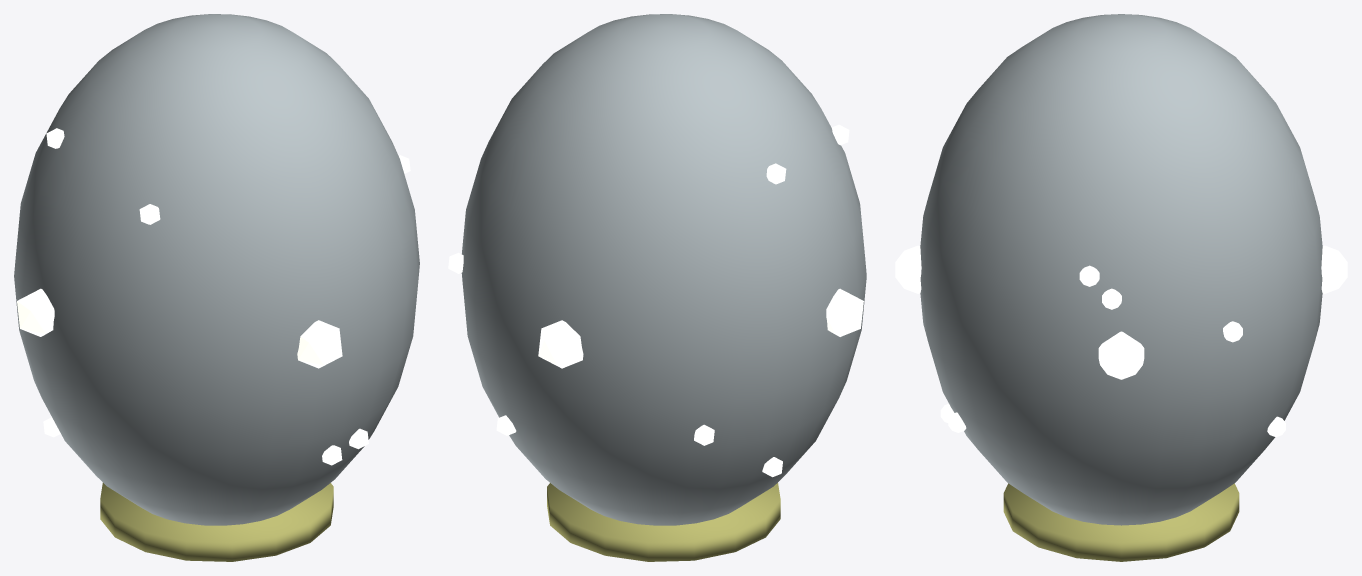
Rendered from egg_storm_04.glb.
3 views of the same model, side by side, from view 1: azimuth 30°, elevation 25°; view 2: azimuth 150°, elevation 25°; view 3: azimuth 270°, elevation 25° (orthographic).
Visible parts, largest first — view 1: ball; view 2: ball; view 3: ball.
Boxes of the visible parts, <box> form: ball: <box>14,14,419,561</box>; ball: <box>448,14,866,561</box>; ball: <box>895,14,1347,561</box>.
Size of the model in its own units: 0.8494 by 1 by 0.8451.
